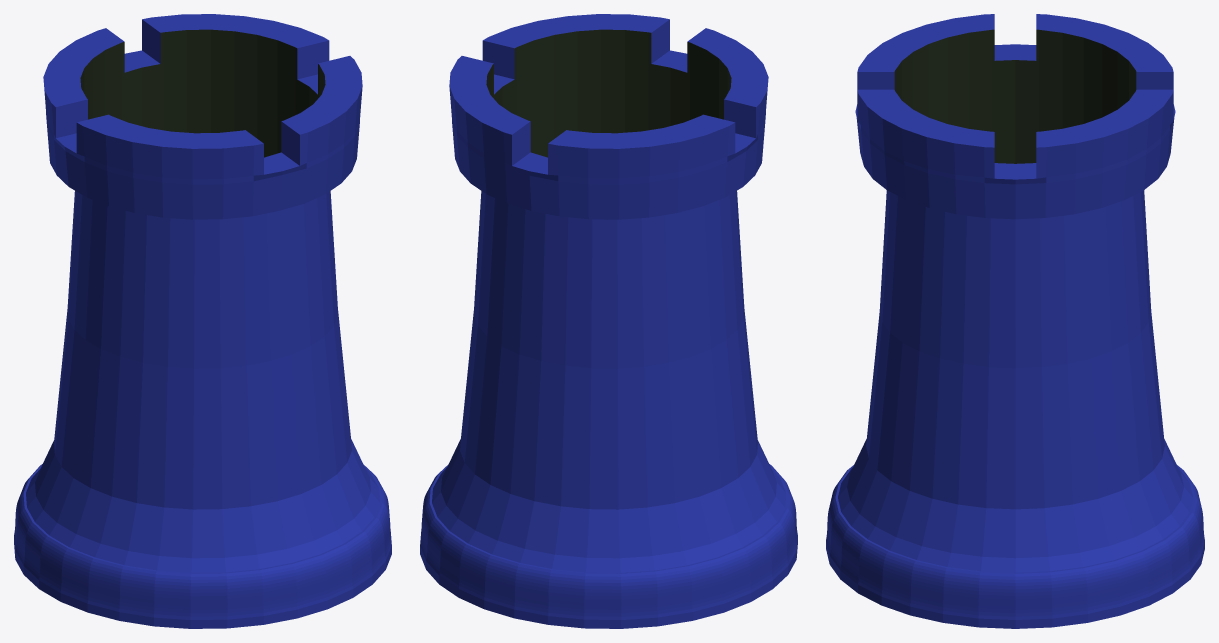
Rendered from Player's team Rook 1.fbx.
The picture shows the model from 3 angles, left to right: view 1: azimuth 30°, elevation 25°; view 2: azimuth 150°, elevation 25°; view 3: azimuth 270°, elevation 25°; orthographic projection.
Parts seen in each view (by area): view 1: Cylinder; view 2: Cylinder; view 3: Cylinder.
Boxes of the visible parts, x1,y1,x2,y2 form: Cylinder: (14,14,391,628); Cylinder: (420,14,797,628); Cylinder: (826,14,1204,628).
Size of the model in its own units: 387 by 387 by 528.
